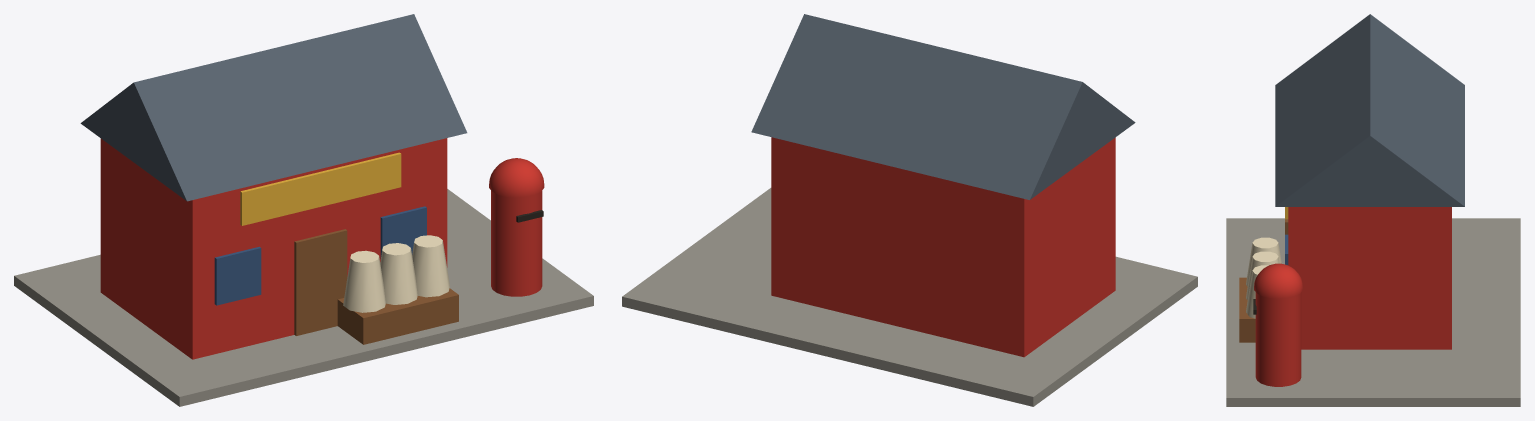
File: post-office.glb
3 views of the same model, side by side, from view 1: azimuth 30°, elevation 25°; view 2: azimuth 150°, elevation 25°; view 3: azimuth 270°, elevation 25° (orthographic). The views are drawn at different scales.
Parts seen in each view (by area): view 1: red, slate, stone, darkWood, cream, yellow, glass; view 2: red, slate, stone; view 3: slate, stone, red, cream, darkWood.
Boxes of the visible parts, <box> form: red: <box>100,138,544,359</box>; slate: <box>80,14,467,201</box>; stone: <box>14,189,593,406</box>; darkWood: <box>294,229,458,344</box>; cream: <box>343,235,449,312</box>; yellow: <box>240,152,401,225</box>; glass: <box>214,206,426,305</box>; red: <box>771,137,1115,357</box>; slate: <box>751,14,1135,199</box>; stone: <box>622,188,1197,406</box>; slate: <box>1275,14,1464,206</box>; stone: <box>1226,218,1520,406</box>; red: <box>1254,207,1451,386</box>; cream: <box>1246,237,1281,318</box>; darkWood: <box>1239,219,1288,342</box>.
Bounding box in the file's own units: 130 × 77 × 90.
